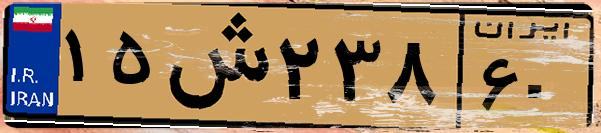0: (525, 38, 570, 115)
1: (57, 26, 110, 100)
2: (270, 28, 330, 110)
3: (330, 28, 385, 110)
5: (110, 28, 158, 98)
6: (475, 38, 525, 113)
8: (385, 28, 445, 110)
ش: (158, 12, 270, 120)
